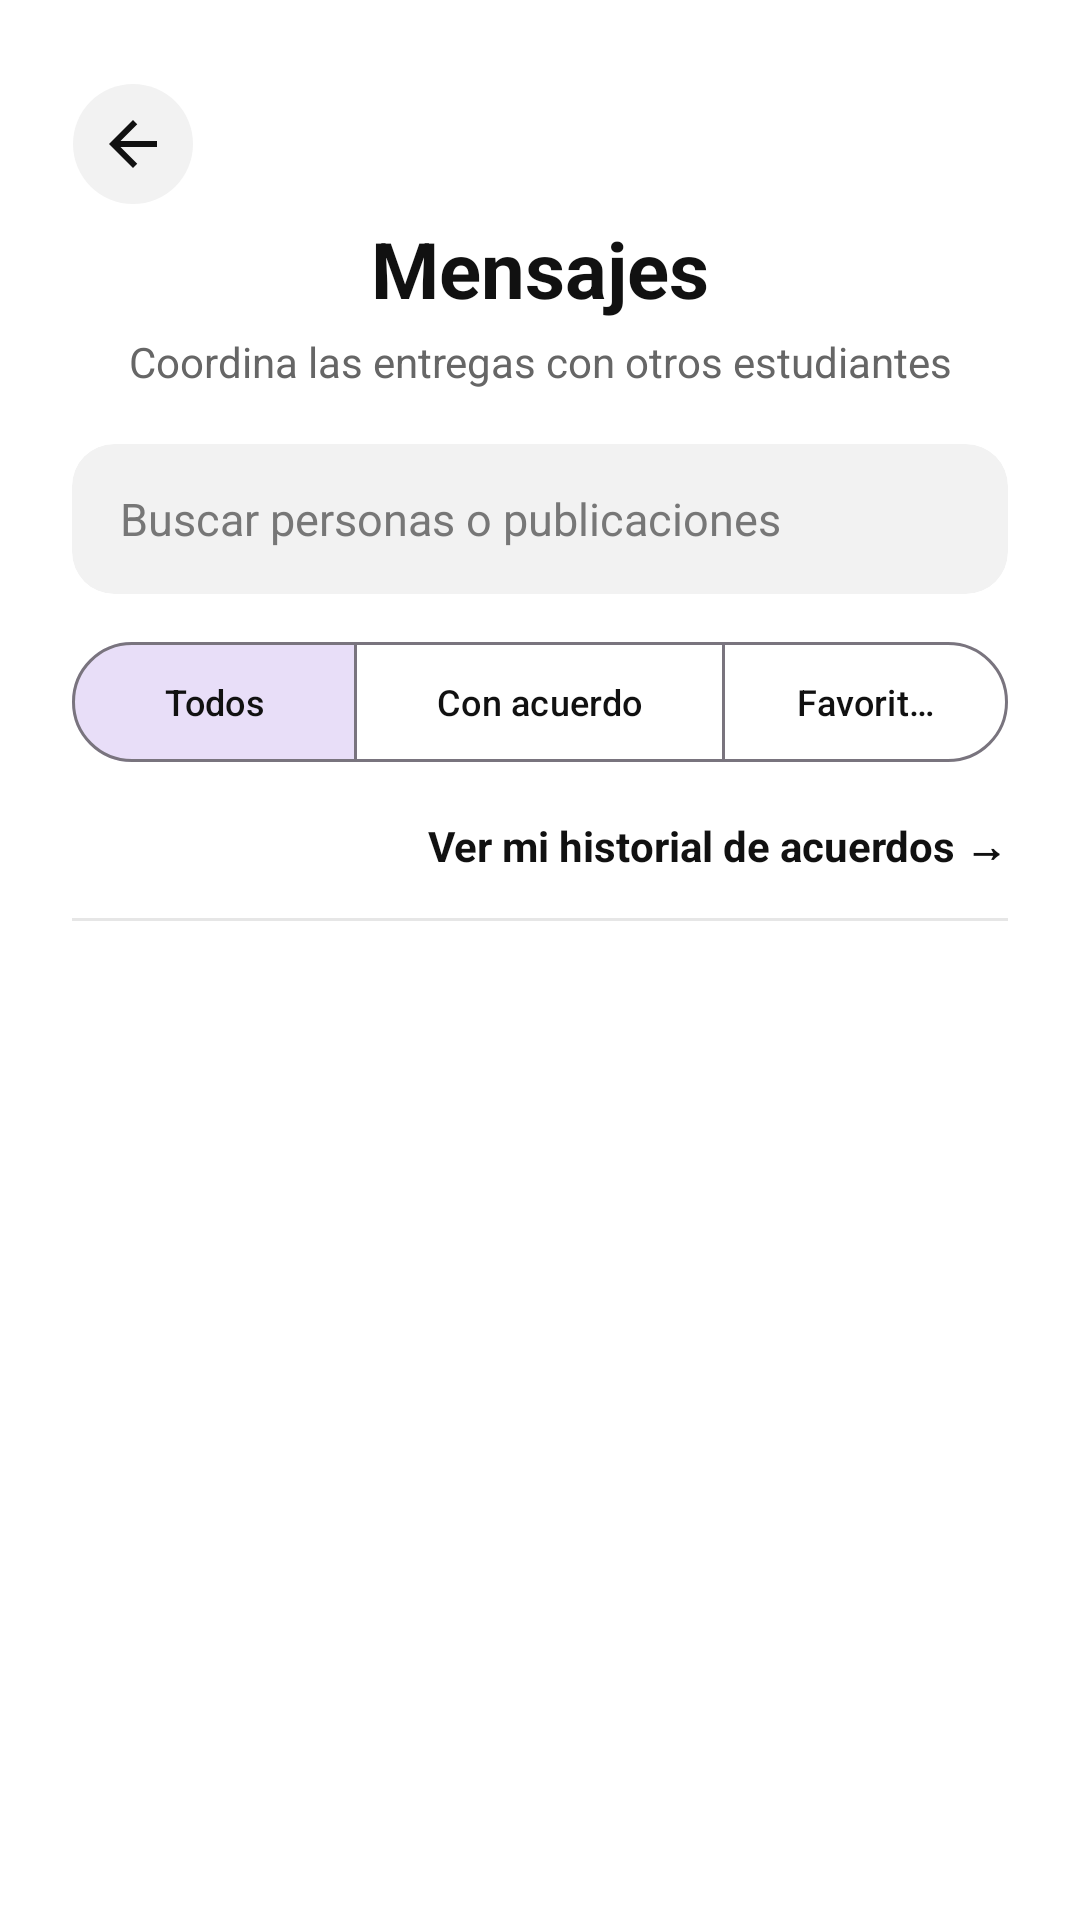

Icons on this 1080px x 1920px Android screen, each with the point to tap as point (x, y):
Regresar: point (133, 144)
